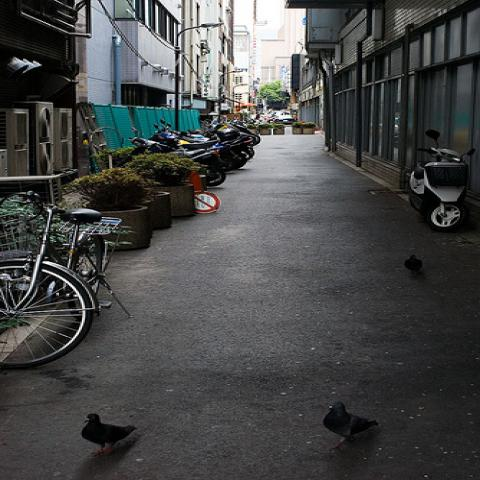motorcycle: (405, 127, 476, 232), (119, 127, 230, 188), (150, 124, 240, 171), (167, 129, 256, 161), (188, 121, 262, 144)
